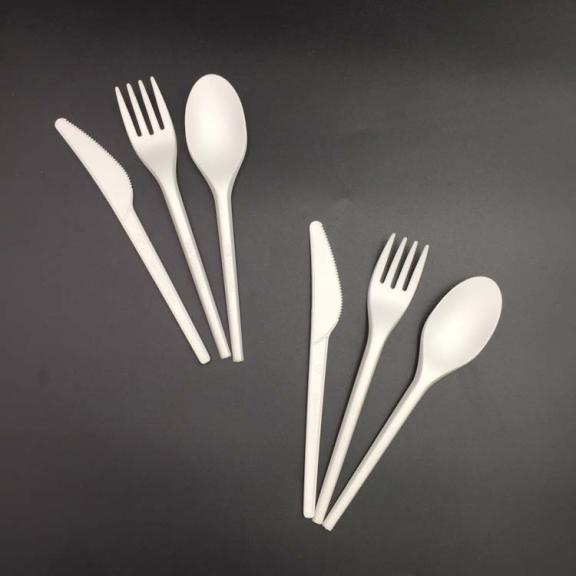Plastik: (323, 277, 502, 529), (55, 119, 209, 364), (313, 235, 427, 523), (116, 77, 230, 358), (186, 75, 247, 361), (303, 222, 342, 517)
